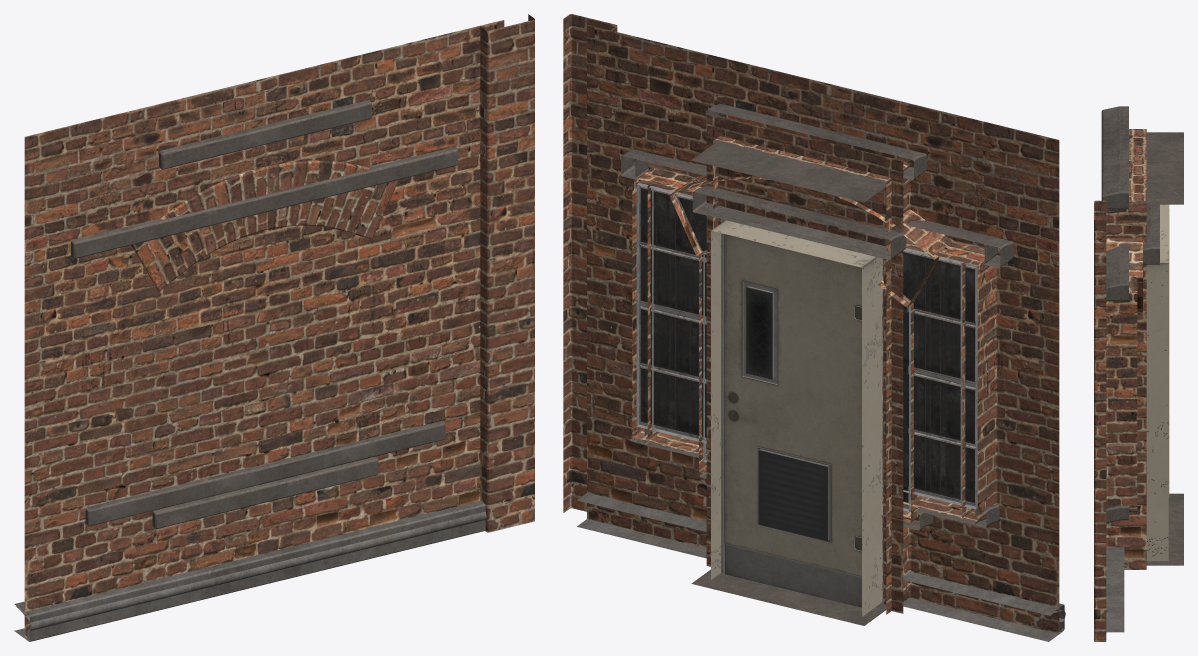
Rendered from architecture.glb.
The picture shows the model from 3 angles, left to right: view 1: azimuth 30°, elevation 25°; view 2: azimuth 150°, elevation 25°; view 3: azimuth 270°, elevation 25°; orthographic projection. The views are drawn at different scales.
Parts seen in each view (by area): view 1: wall_door_recessed_small_01, wall_standard_standard_01, wall_window_centered_medium_02, wall_window_centered_double_01, wall_pier_standard_01, wall_window_centered_small_01, wall_window_centered_large_01, cornice02_standard_standard_01, window_centered_double_01, window_centered_medium_02, window_centered_large_01, door_recessed_small_01 (+2 smaller); view 2: door_recessed_small_01, wall_door_recessed_small_01, wall_standard_standard_01, wall_window_centered_double_01, wall_window_centered_medium_02, window_centered_double_01, wall_window_centered_large_01, window_centered_large_01, wall_pier_standard_01, wall_window_centered_small_01, cornice02_standard_standard_01, cornice01_standard_standard_01 (+1 smaller); view 3: door_recessed_small_01, wall_window_centered_double_01, wall_door_recessed_small_01, wall_pier_standard_01, window_centered_double_01, cornice02_standard_standard_01, wall_window_centered_medium_02, cornice01_standard_standard_01.
Part boxes in pixels (x1,y1,x2,y2): wall_door_recessed_small_01: (24, 20, 504, 638); wall_standard_standard_01: (24, 49, 480, 610); wall_window_centered_medium_02: (24, 59, 480, 600); wall_window_centered_double_01: (24, 21, 504, 605); wall_pier_standard_01: (480, 14, 534, 532); wall_window_centered_small_01: (24, 48, 480, 609); wall_window_centered_large_01: (24, 69, 480, 638); cornice02_standard_standard_01: (14, 501, 485, 641); window_centered_double_01: (71, 146, 458, 526); window_centered_medium_02: (152, 456, 378, 528); window_centered_large_01: (90, 150, 442, 509); door_recessed_small_01: (159, 100, 371, 169); door_recessed_small_01: (691, 103, 926, 625); wall_door_recessed_small_01: (587, 70, 1059, 632); wall_standard_standard_01: (587, 25, 1059, 623); wall_window_centered_double_01: (587, 25, 1059, 623); wall_window_centered_medium_02: (587, 31, 1059, 633); window_centered_double_01: (621, 149, 1013, 527); wall_window_centered_large_01: (587, 27, 1059, 633); window_centered_large_01: (635, 156, 997, 524); wall_pier_standard_01: (563, 14, 617, 512); wall_window_centered_small_01: (587, 30, 1059, 601); cornice02_standard_standard_01: (577, 492, 1064, 641); cornice01_standard_standard_01: (578, 519, 1065, 640); door_recessed_small_01: (1101, 106, 1183, 565); wall_window_centered_double_01: (1106, 275, 1137, 511); wall_door_recessed_small_01: (1106, 129, 1146, 569); wall_pier_standard_01: (1094, 200, 1106, 641); window_centered_double_01: (1106, 245, 1128, 522); cornice02_standard_standard_01: (1106, 547, 1124, 632); wall_window_centered_medium_02: (1106, 238, 1142, 312); cornice01_standard_standard_01: (1106, 609, 1121, 631).
Size of the model in its own units: 3.15 by 3 by 0.58.
6 materials, 6 textured.
